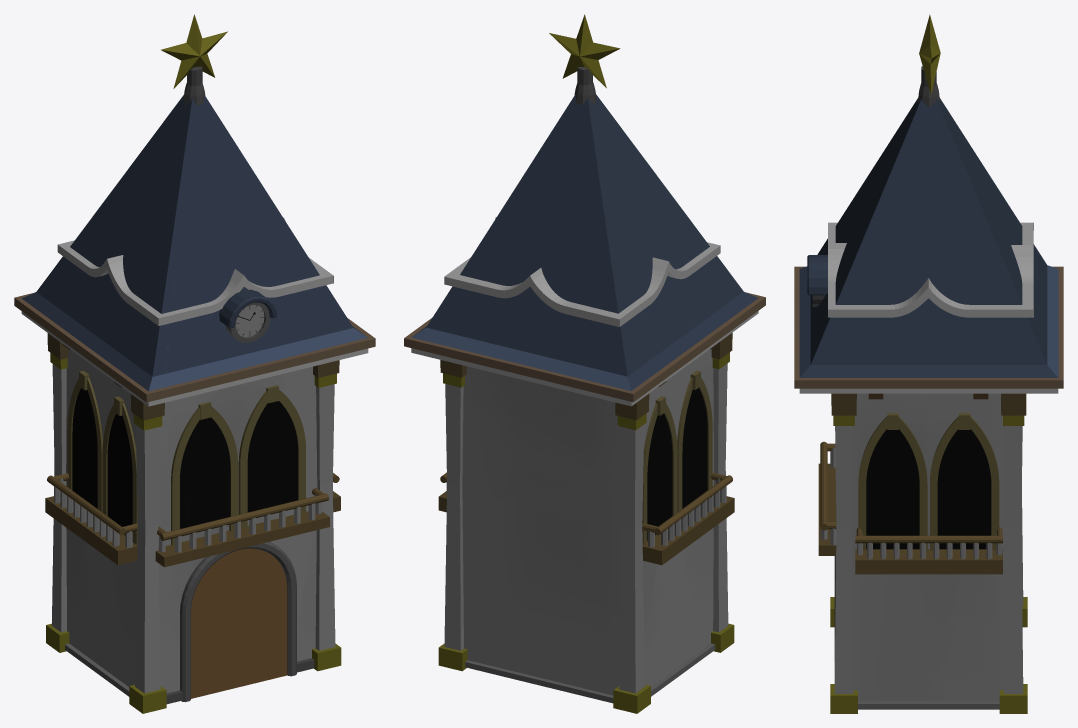
The model's file is tower 1.fbx.
3 renders of one model, left to right at view 1: azimuth 30°, elevation 25°; view 2: azimuth 150°, elevation 25°; view 3: azimuth 270°, elevation 25°, orthographic.
Visible parts, largest first — view 1: tower_1, pCube83, pCylinder37, ondersteen_gedeelte; view 2: tower_1, pCube83, ondersteen_gedeelte; view 3: tower_1, pCube83, ondersteen_gedeelte.
Part boxes in pixels (left/top/right/bottom): tower_1: left=14, top=14, right=375, bottom=713; pCube83: left=66, top=349, right=317, bottom=693; pCylinder37: left=235, top=305, right=264, bottom=337; ondersteen_gedeelte: left=65, top=643, right=129, bottom=696; tower_1: left=404, top=14, right=765, bottom=713; pCube83: left=462, top=349, right=713, bottom=695; ondersteen_gedeelte: left=465, top=643, right=715, bottom=703; tower_1: left=794, top=14, right=1063, bottom=713; pCube83: left=851, top=393, right=1005, bottom=701; ondersteen_gedeelte: left=858, top=701, right=999, bottom=709.
Bounding box in the file's own units: 1.54 × 4.12 × 1.54.
3 materials, 2 textured.
